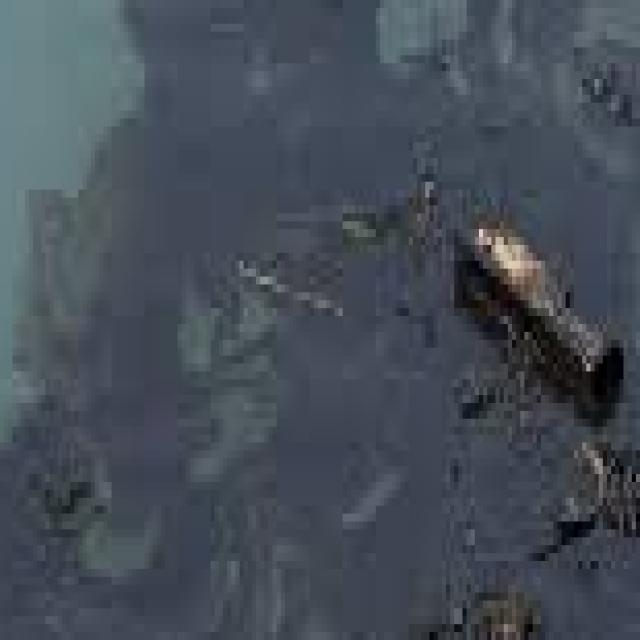-: (136, 0, 640, 640), (413, 158, 640, 640), (0, 0, 161, 640), (206, 0, 640, 111)
